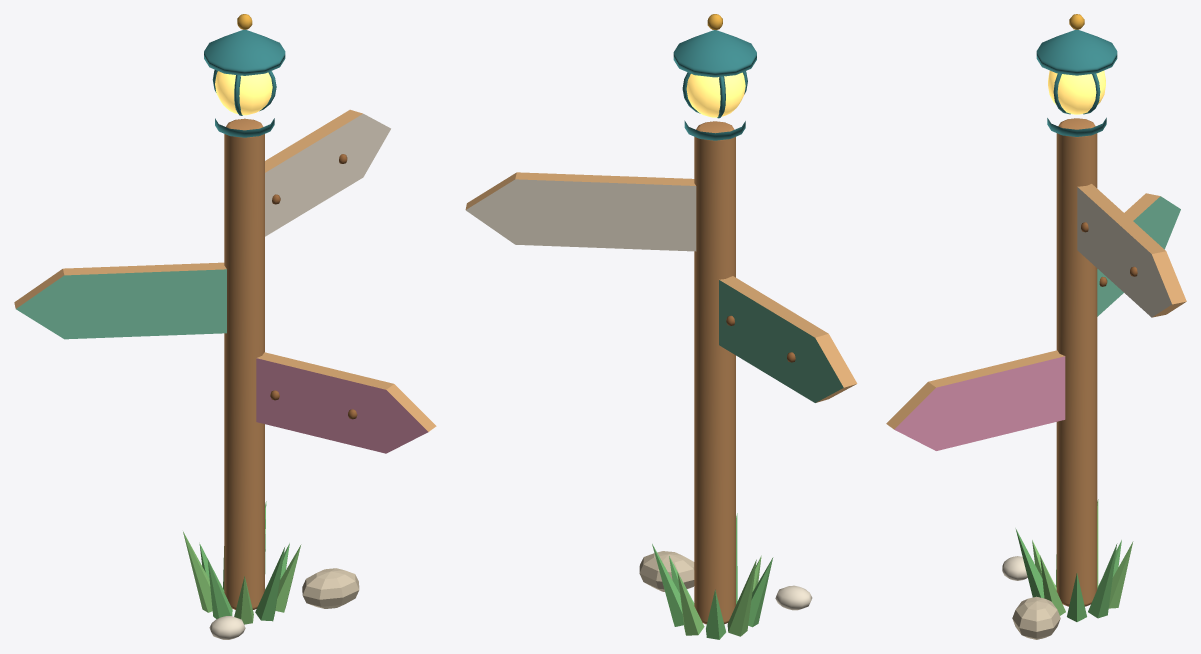
Rendered from signpost.glb.
The picture shows the model from 3 angles, left to right: view 1: azimuth 30°, elevation 25°; view 2: azimuth 150°, elevation 25°; view 3: azimuth 270°, elevation 25°; orthographic projection. The views are drawn at different scales.
Visible parts, largest first — view 1: signpost; view 2: signpost; view 3: signpost.
Boxes of the visible parts, left/top/right/bottom form: signpost: left=14, top=14, right=436, bottom=639; signpost: left=465, top=14, right=857, bottom=639; signpost: left=886, top=14, right=1186, bottom=639.
Size of the model in its own units: 1.61 by 2.41 by 1.12.
1 material, 1 textured.
